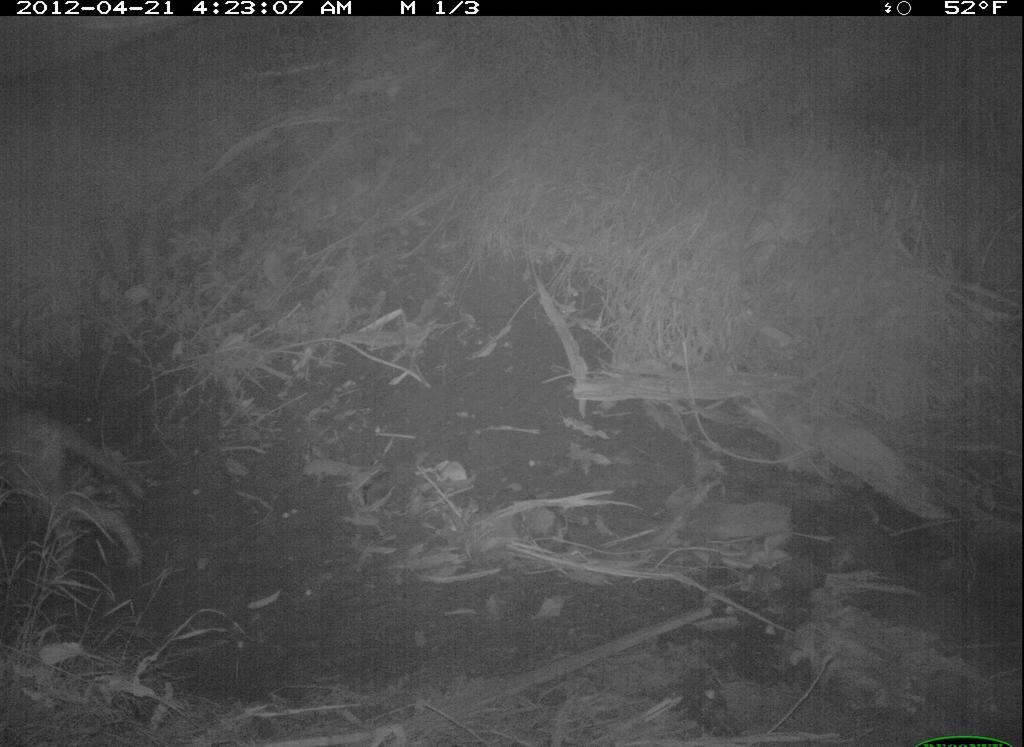coyote: (4, 386, 158, 588)
